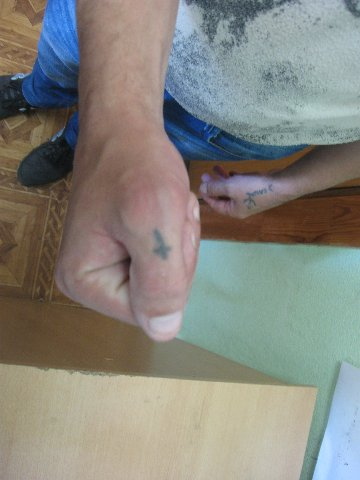tatu9_krest: (146, 226, 175, 264)
